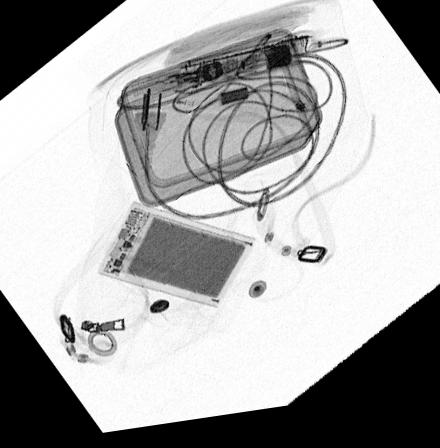Powerbank: (95, 204, 256, 313)
